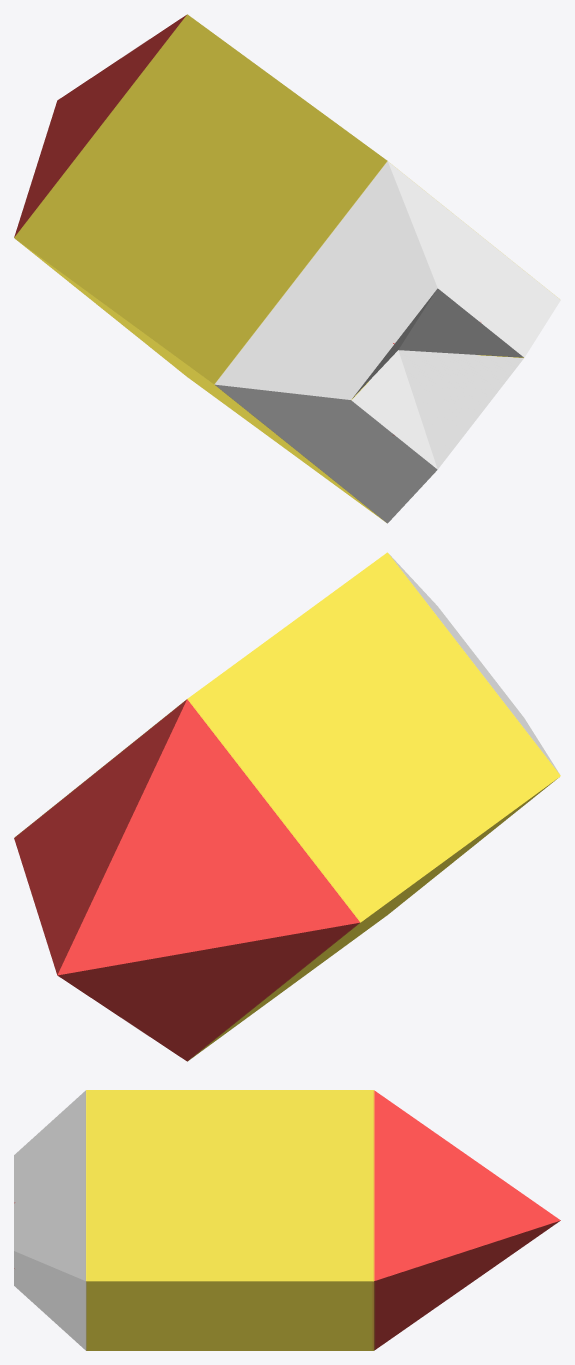
Rendered from Laser.fbx.
The picture shows the model from 3 angles, top to bottom: view 1: azimuth 30°, elevation 25°; view 2: azimuth 150°, elevation 25°; view 3: azimuth 270°, elevation 25°; orthographic projection. The views are drawn at different scales.
Visible parts, largest first — view 1: Laser; view 2: Laser; view 3: Laser.
Part boxes in pixels (x1,y1,x2,y2): Laser: [14, 14, 560, 523]; Laser: [14, 552, 560, 1061]; Laser: [14, 1090, 560, 1350].
Bounding box in the file's own units: 200 × 200 × 380.
